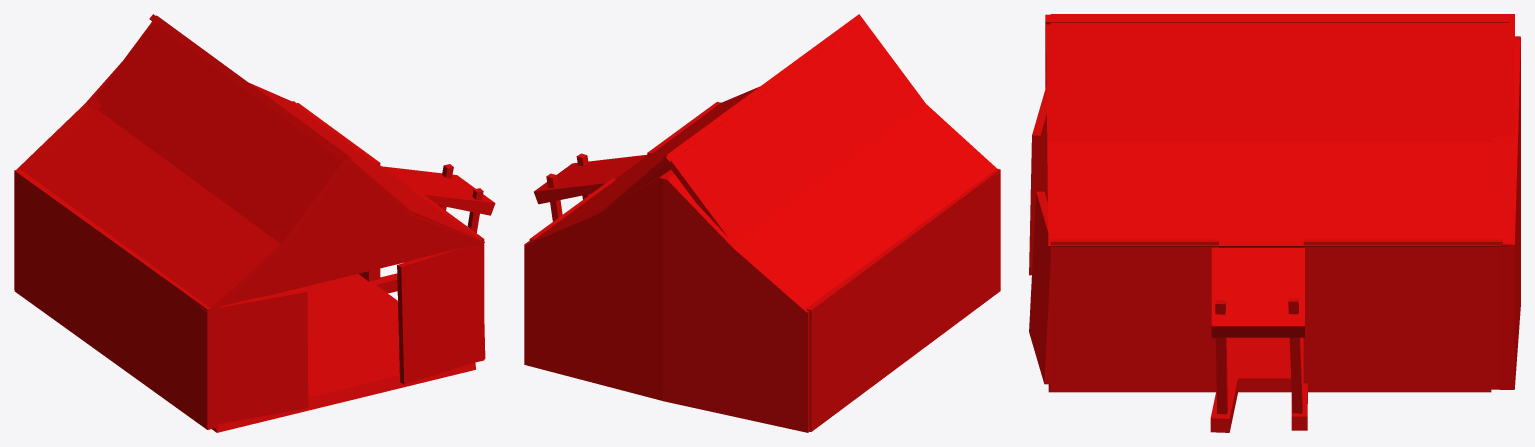
The model's file is SM_Bld_Military_Tent_01_Collision.fbx.
3 renders of one model, left to right at view 1: azimuth 30°, elevation 25°; view 2: azimuth 150°, elevation 25°; view 3: azimuth 270°, elevation 25°, orthographic. The views are drawn at different scales.
Parts seen in each view (by area): view 1: SM_Bld_Military_Tent_01_Collision; view 2: SM_Bld_Military_Tent_01_Collision; view 3: SM_Bld_Military_Tent_01_Collision.
Boxes of the visible parts, left/top/right/bottom form: SM_Bld_Military_Tent_01_Collision: left=14, top=14, right=495, bottom=432; SM_Bld_Military_Tent_01_Collision: left=524, top=14, right=1000, bottom=432; SM_Bld_Military_Tent_01_Collision: left=1029, top=14, right=1520, bottom=432.
Size of the model in its own units: 618 by 406 by 603.
